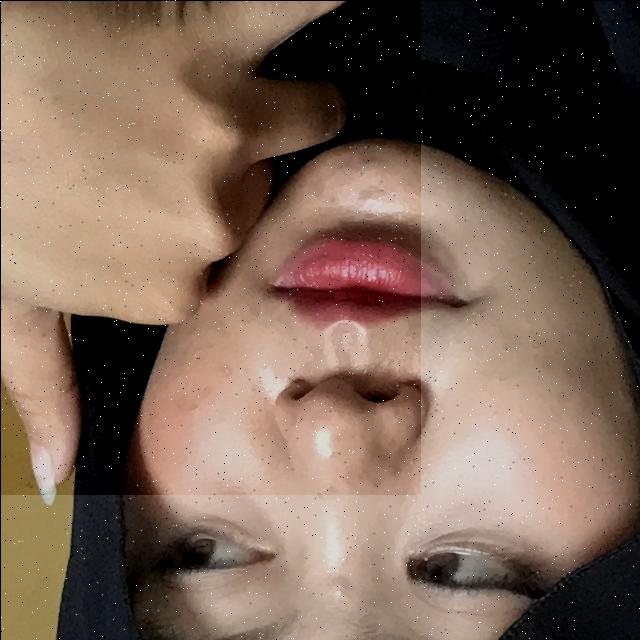telpon: (0, 0, 420, 494)
